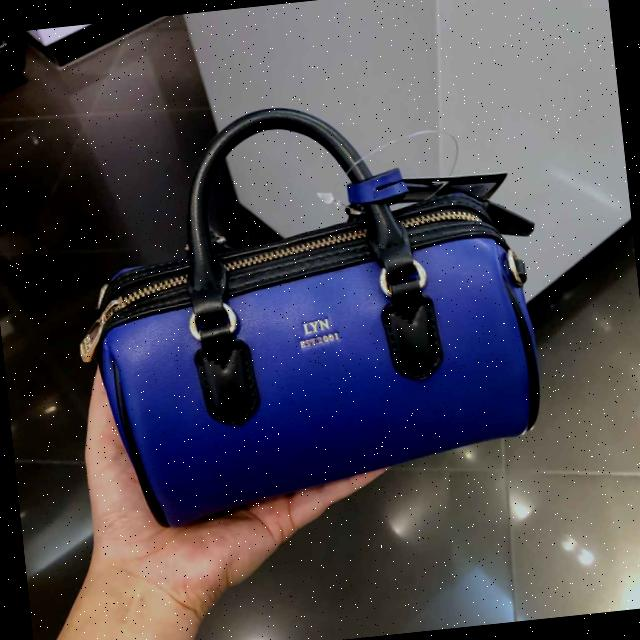Handbag: (86, 171, 559, 538)
